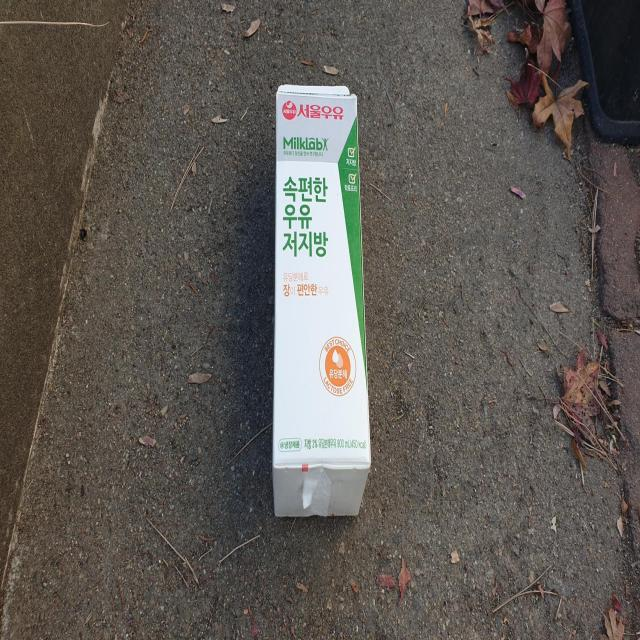paperpack: (273, 84, 371, 516)
